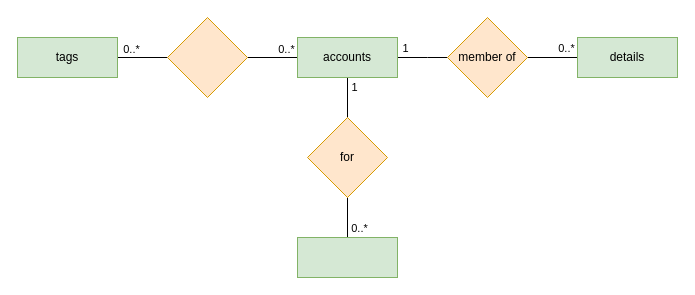
Some shapes in this 695 by 295 pixel diagram are drawn without their labels. Here are the shapes that lost their labels. From the top down, the centre of each, then its label:
At pixel 207 57: "assigned to".
At pixel 347 257: "targets".
